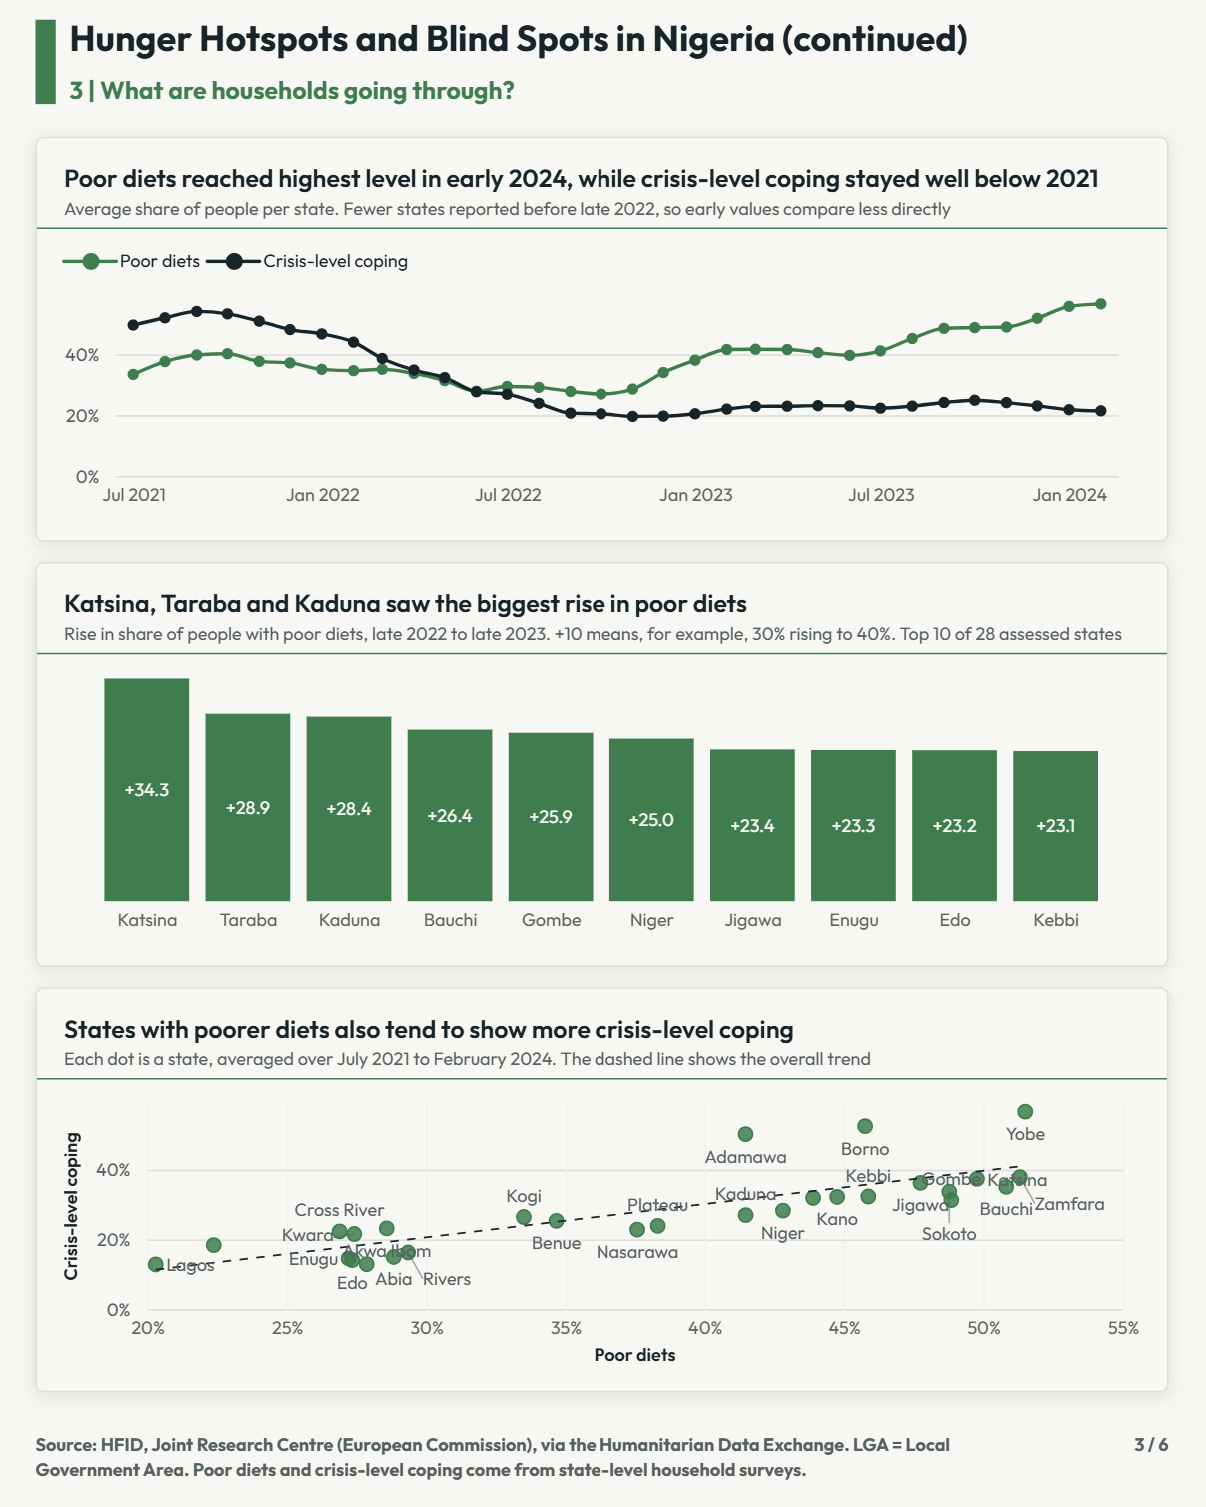

This screenshot's page, from the dashboard's own definition file:
{"tool":"powerbi","page":{"name":"3. Households","canvas":[720,900],"ordinal":2},"visuals":[{"type":"shape","box":[24,15,12,50],"z":0},{"type":"textbox","box":[44,12,652,32],"z":1000},{"type":"textbox","box":[44,46,460,24],"z":2000},{"type":"textbox","box":[24,850,596,30],"z":3000},{"type":"textbox","box":[636,850,60,18],"z":4000},{"type":"lineChart","title":"Poor diets reached highest level in early 2024, while crisis-level coping stayed well below 2021","fields":{"Category":["Dates.Date"],"Y":["_Measures.Avg FCS State-Weighted","_Measures.Avg rCSI State-Weighted"]},"box":[24,84,672,240],"z":5000},{"type":"clusteredColumnChart","title":"Katsina, Taraba and Kaduna saw the biggest rise in poor diets","fields":{"Category":["Hunger.State"],"Y":["_Measures.FCS Change (pp)"]},"box":[24,336,672,240],"z":6000},{"type":"scatterChart","title":"States with poorer diets also tend to show more crisis-level coping","fields":{"Category":["Hunger.State"],"X":["_Measures.Avg FCS"],"Y":["_Measures.Avg rCSI"]},"box":[24,588,672,240],"z":7000}]}

Visuals, with their boxes in screenshot pixels (x1, y1, x2, y2), scaled from the page's 720x900 canvas onto the 1206x1507 screenshot:
shape: x1=40 y1=25 x2=60 y2=109
textbox: x1=74 y1=20 x2=1166 y2=74
textbox: x1=74 y1=77 x2=844 y2=117
textbox: x1=40 y1=1423 x2=1038 y2=1474
textbox: x1=1065 y1=1423 x2=1166 y2=1453
"Poor diets reached highest level in early 2024, while crisis-level coping stayed well below 2021" lineChart: x1=40 y1=141 x2=1166 y2=543
"Katsina, Taraba and Kaduna saw the biggest rise in poor diets" clusteredColumnChart: x1=40 y1=563 x2=1166 y2=964
"States with poorer diets also tend to show more crisis-level coping" scatterChart: x1=40 y1=985 x2=1166 y2=1386
